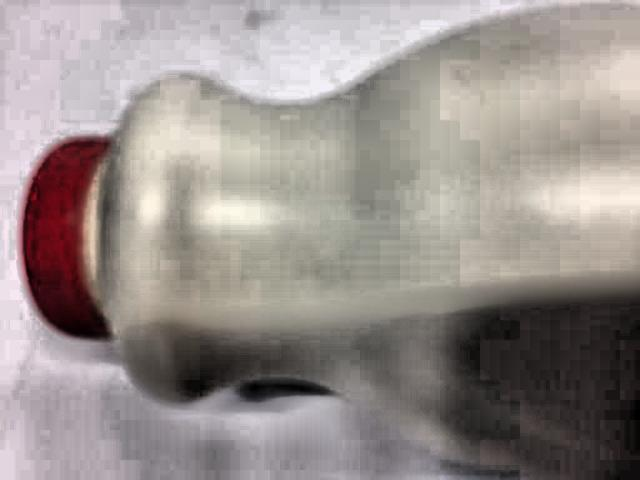Plastic: (14, 5, 640, 480)
